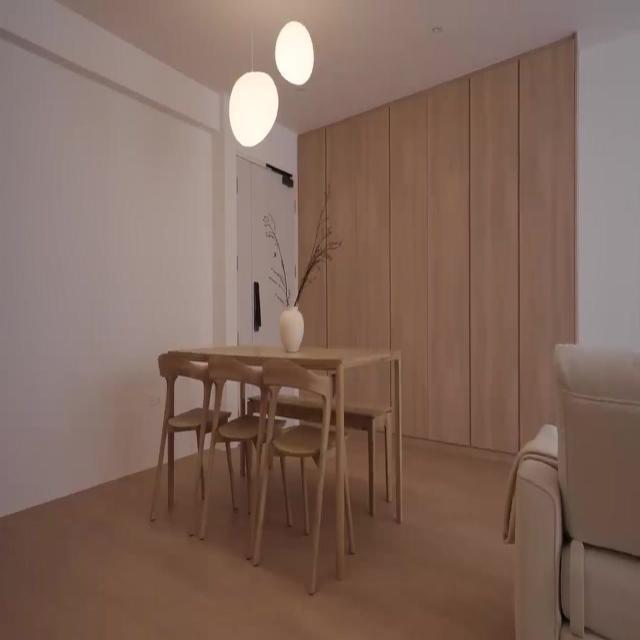obstacle: (162, 343, 404, 580), (509, 342, 639, 638)
